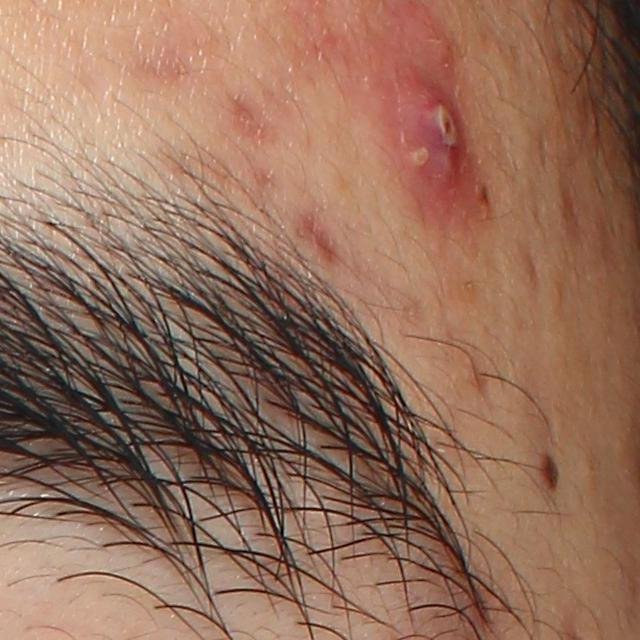atrophic_scar: (227, 82, 274, 145), (300, 212, 350, 267)
nevus: (540, 447, 560, 493)
nodule: (366, 46, 498, 234)
